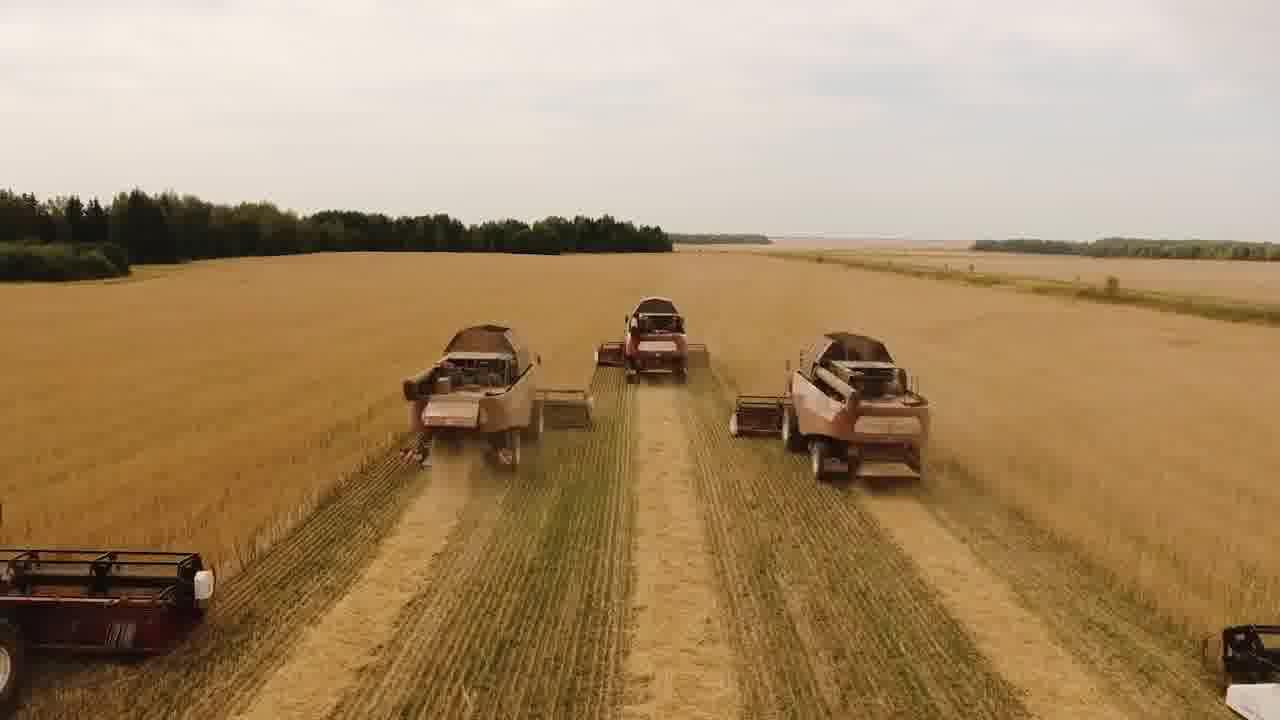combine harvester: (0, 531, 221, 713), (725, 312, 936, 494), (386, 320, 596, 480), (591, 293, 716, 382), (1191, 605, 1280, 717)
